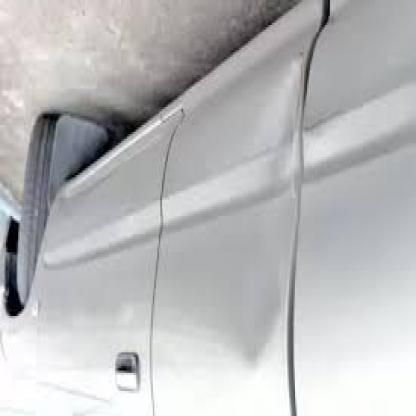dent: (245, 48, 298, 357)
